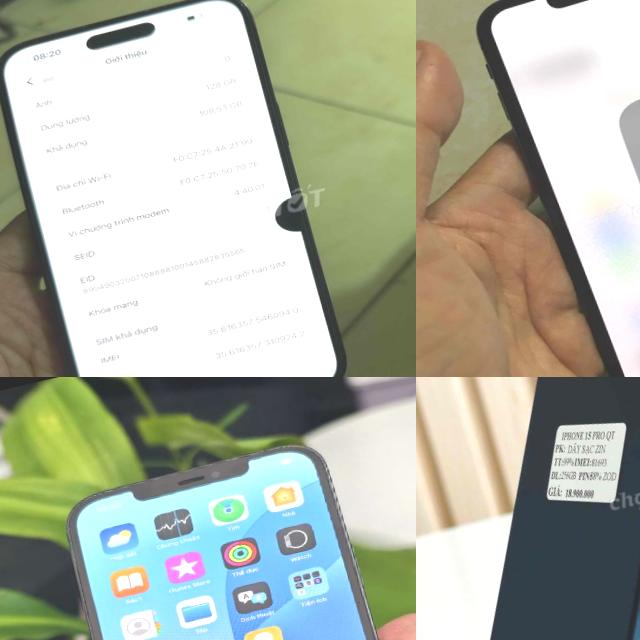gen_12_13: (53, 424, 416, 640)
gen_14: (0, 0, 370, 377)
gen_15: (416, 377, 640, 640)
gen_x_xs: (459, 0, 640, 377)
screen_defect: (263, 168, 357, 250)
